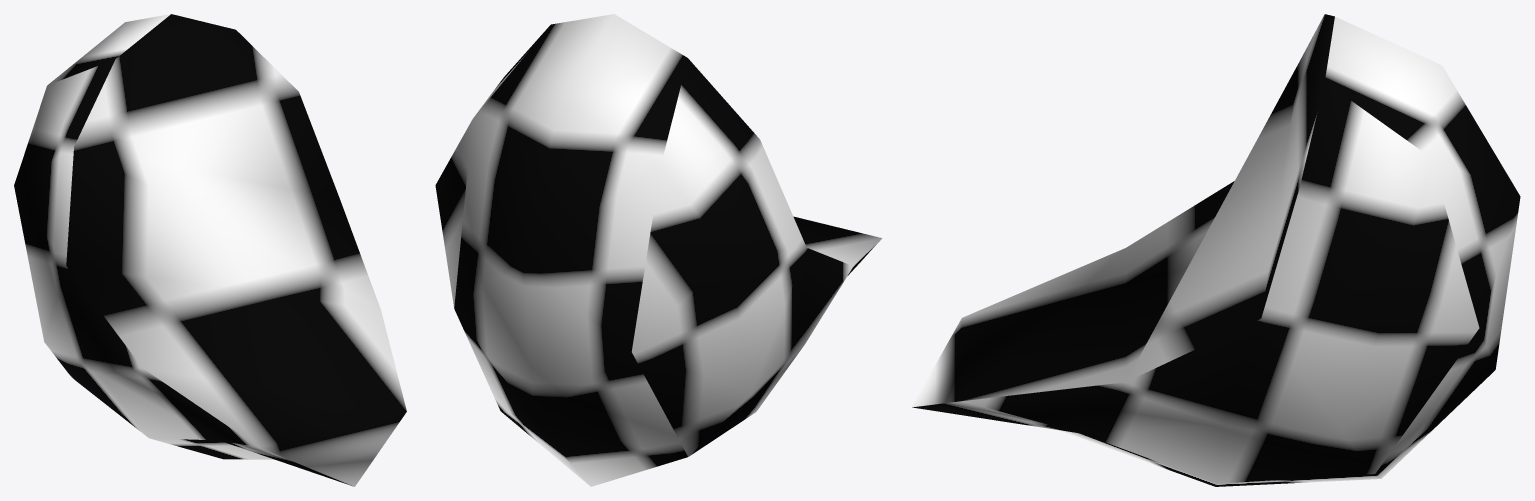
Rendered from initarhl6.dae.
3 renders of one model, left to right at view 1: azimuth 30°, elevation 25°; view 2: azimuth 150°, elevation 25°; view 3: azimuth 270°, elevation 25°, orthographic. The views are drawn at different scales.
Parts seen in each view (by area): view 1: armor; view 2: armor; view 3: armor.
Part boxes in pixels (x1,y1,x2,y2): armor: (14,14,406,486); armor: (435,14,882,486); armor: (912,14,1520,486).
Bounding box in the file's own units: 0.6952 × 1.16 × 0.9891.
Materials: 1 (1 with a texture image).
